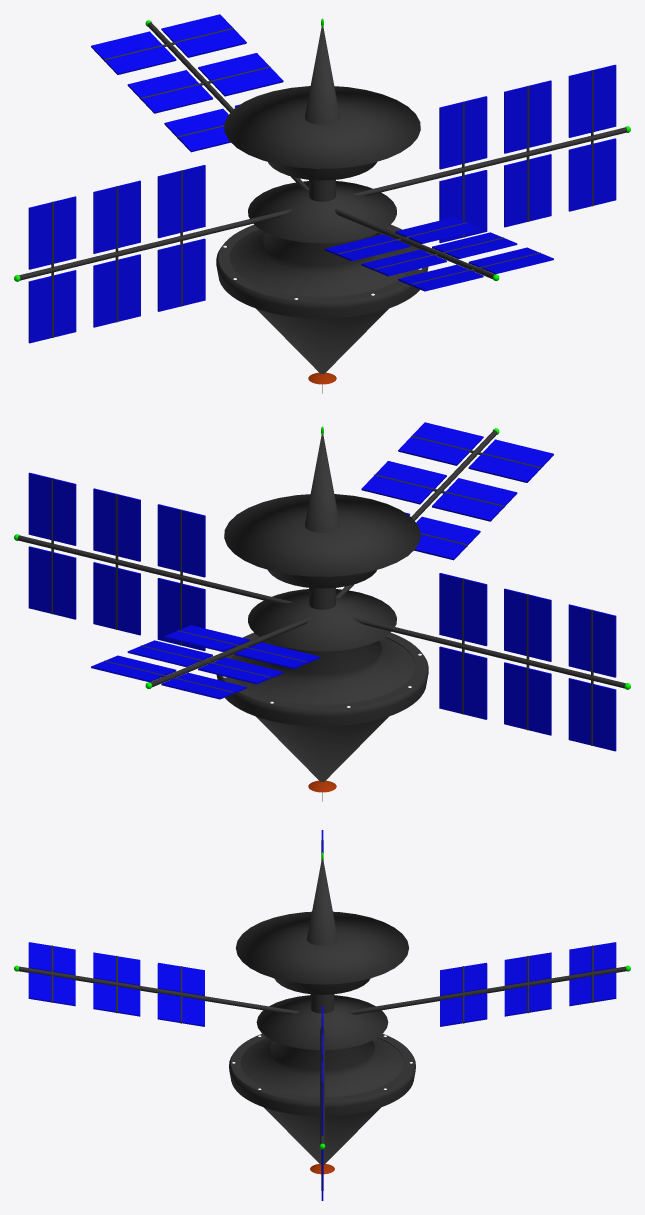
File: Basedock.FBX
The picture shows the model from 3 angles, top to bottom: view 1: azimuth 30°, elevation 25°; view 2: azimuth 150°, elevation 25°; view 3: azimuth 270°, elevation 25°; orthographic projection. The views are drawn at different scales.
Visible parts, largest first — view 1: Basedock; view 2: Basedock; view 3: Basedock.
Part boxes in pixels (box(x1,y1,x2,y2)): Basedock: box(14, 14, 630, 393); Basedock: box(14, 422, 630, 801); Basedock: box(14, 830, 630, 1200).
Bounding box in the file's own units: 23.66 × 13.77 × 23.32.
